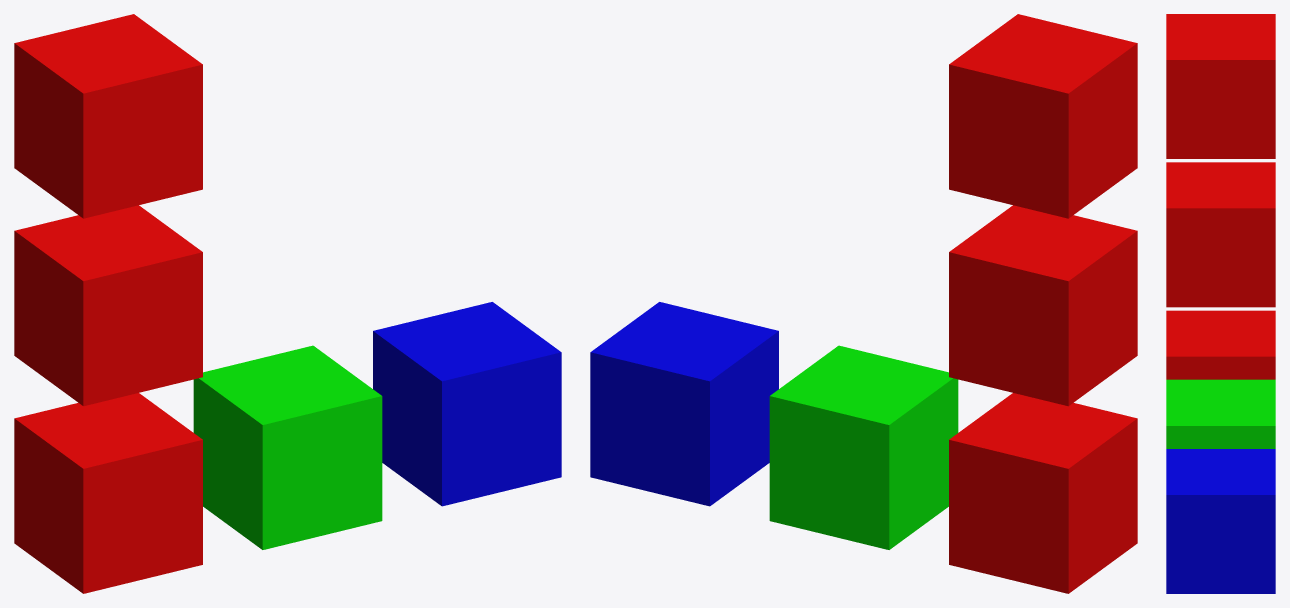
The model's file is CubeVisibility.glb.
3 renders of one model, left to right at view 1: azimuth 30°, elevation 25°; view 2: azimuth 150°, elevation 25°; view 3: azimuth 270°, elevation 25°, orthographic. The views are drawn at different scales.
Visible parts, largest first — view 1: DescendantOfInvisibleShouldBeInvisible, ChildOfInvisibleShouldBeInvisible, InvisibleCube, VisibleCube, AnimatedVisibility; view 2: DescendantOfInvisibleShouldBeInvisible, ChildOfInvisibleShouldBeInvisible, InvisibleCube, VisibleCube, AnimatedVisibility; view 3: ChildOfInvisibleShouldBeInvisible, DescendantOfInvisibleShouldBeInvisible, AnimatedVisibility, InvisibleCube, VisibleCube.
Part boxes in pixels (x1,y1,x2,y2): DescendantOfInvisibleShouldBeInvisible: [14, 14, 202, 218]; ChildOfInvisibleShouldBeInvisible: [14, 205, 202, 406]; InvisibleCube: [14, 393, 202, 593]; VisibleCube: [193, 345, 382, 549]; AnimatedVisibility: [373, 302, 561, 506]; DescendantOfInvisibleShouldBeInvisible: [949, 14, 1137, 218]; ChildOfInvisibleShouldBeInvisible: [949, 205, 1137, 406]; InvisibleCube: [949, 393, 1137, 593]; VisibleCube: [769, 345, 958, 549]; AnimatedVisibility: [590, 302, 778, 506]; ChildOfInvisibleShouldBeInvisible: [1166, 162, 1275, 307]; DescendantOfInvisibleShouldBeInvisible: [1166, 14, 1275, 158]; AnimatedVisibility: [1166, 449, 1275, 593]; InvisibleCube: [1166, 310, 1275, 379]; VisibleCube: [1166, 379, 1275, 448].
Size of the model in its own units: 4 by 4 by 1.
